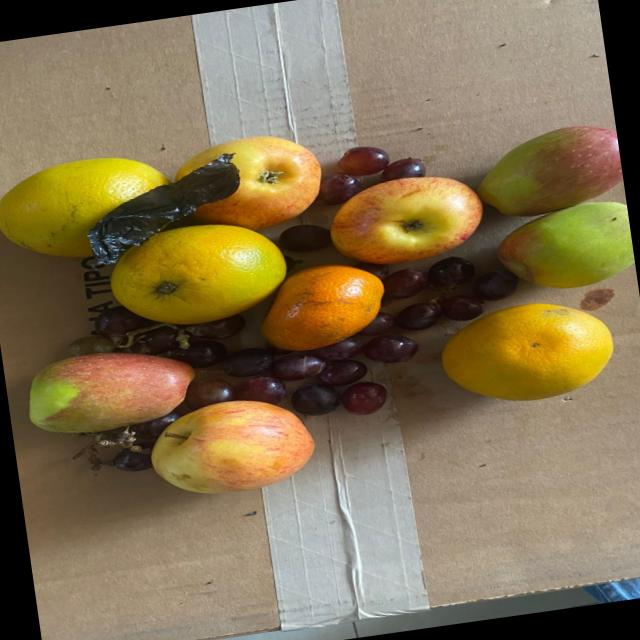bolsa_negra: (80, 156, 248, 270)
